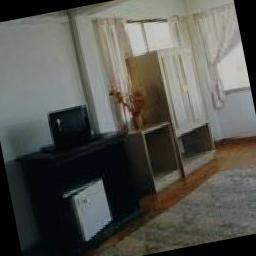Armario: (151, 43, 220, 169)
